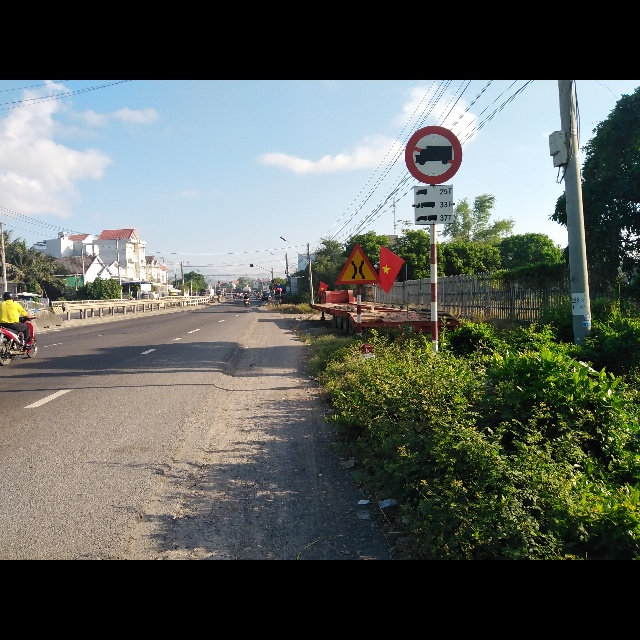Cấm xe tải: (402, 126, 463, 185)
Cầu hẹp: (335, 243, 380, 284)
